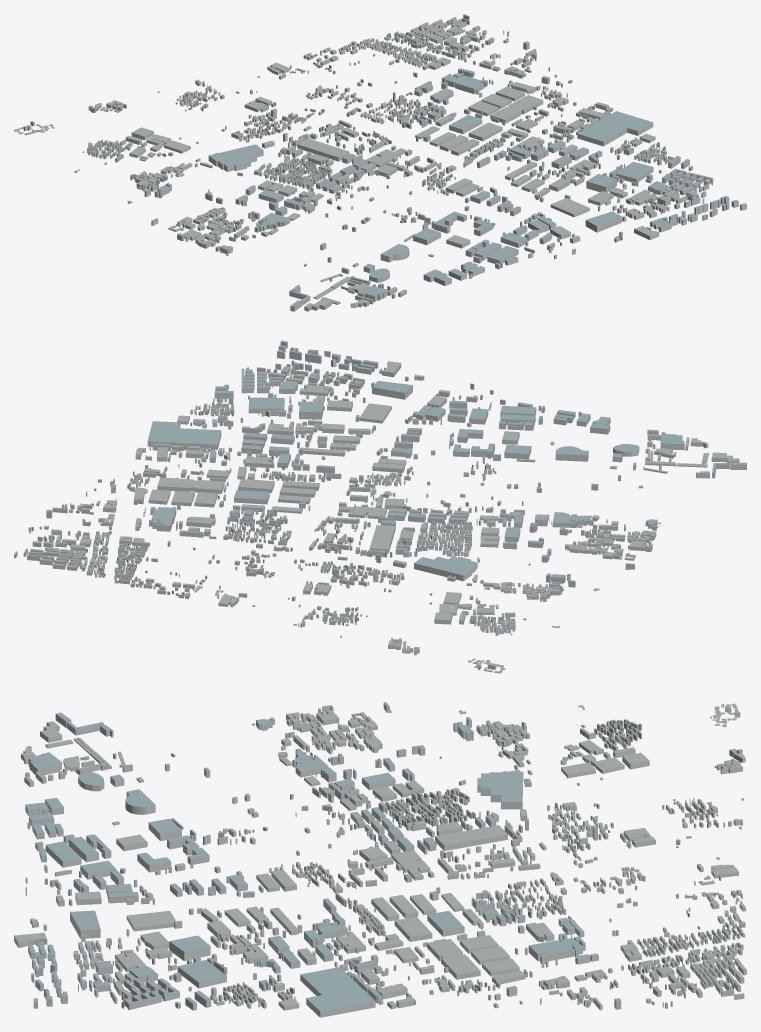
The picture shows the model from 3 angles, top to bottom: view 1: azimuth 30°, elevation 25°; view 2: azimuth 150°, elevation 25°; view 3: azimuth 270°, elevation 25°; orthographic projection. The views are drawn at different scales.
Visible parts, largest first — view 1: 上海全域建筑分块 · mapped building neighborhood; view 2: 上海全域建筑分块 · mapped building neighborhood; view 3: 上海全域建筑分块 · mapped building neighborhood.
Part boxes in pixels (<box>): 上海全域建筑分块 · mapped building neighborhood: <box>14,14,746,311</box>; 上海全域建筑分块 · mapped building neighborhood: <box>14,340,746,673</box>; 上海全域建筑分块 · mapped building neighborhood: <box>14,702,746,1017</box>.
Bounding box in the file's own units: 2162 × 39.12 × 2136.
